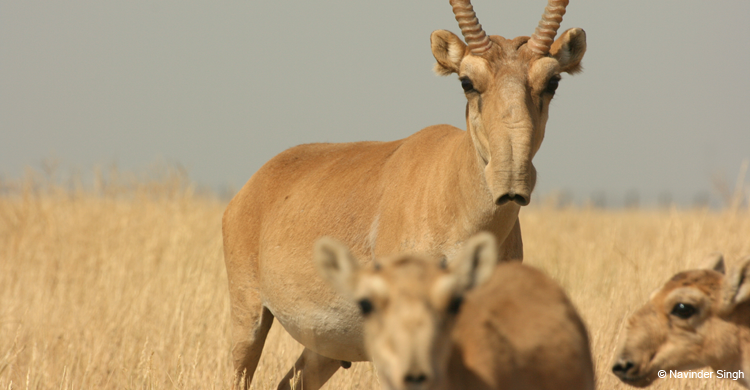saiga: (221, 1, 587, 390)
